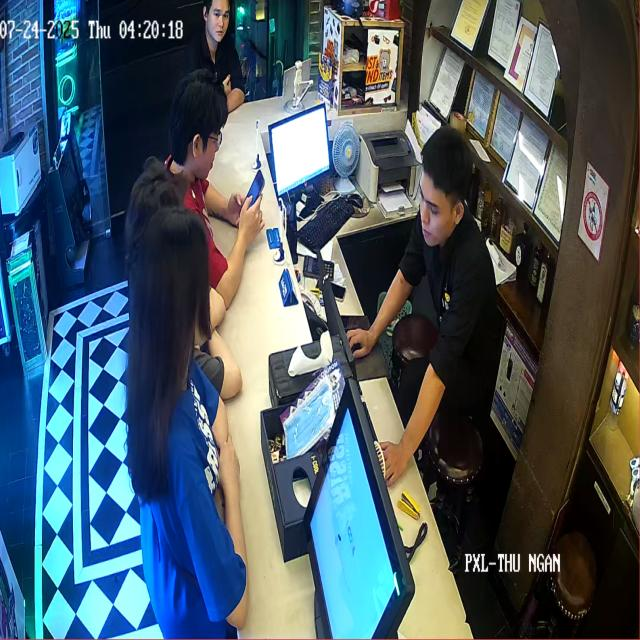khach: (124, 176, 233, 640), (162, 70, 275, 333)
nhan vien: (351, 92, 512, 548), (179, 0, 255, 137)
